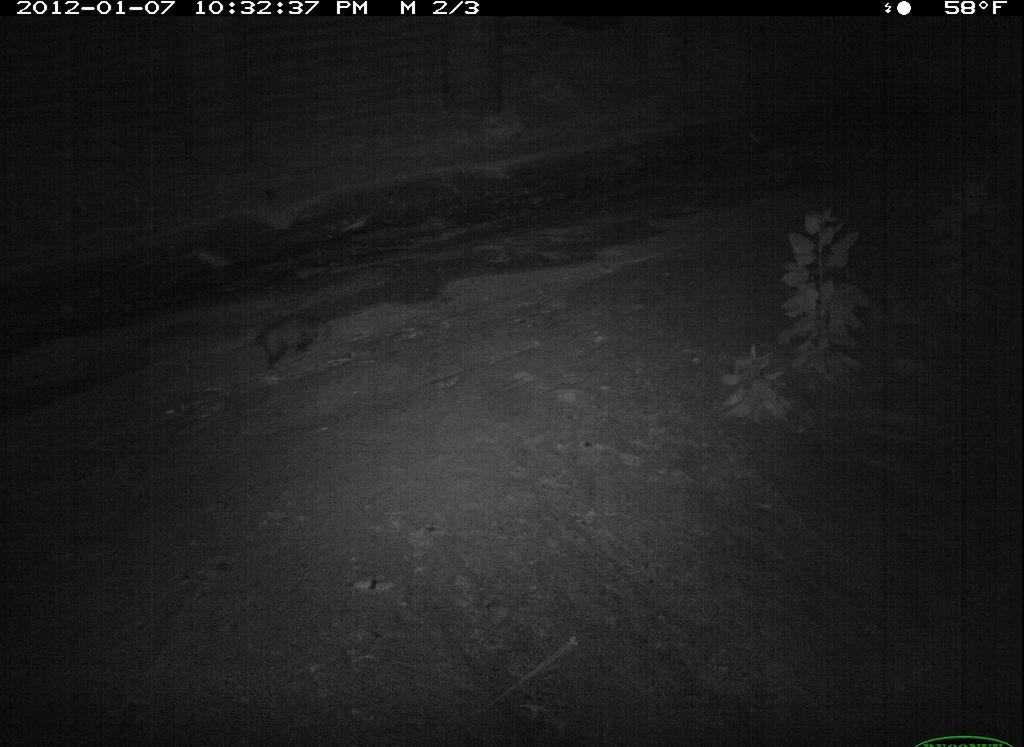opossum: (231, 305, 345, 387)
